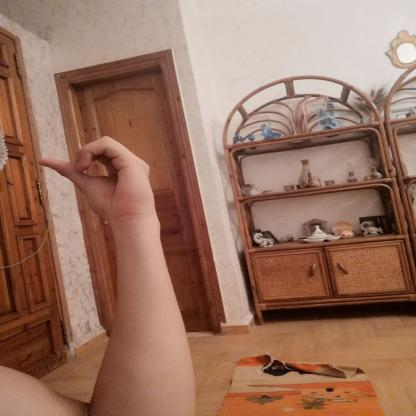WAW: (27, 128, 165, 231)
